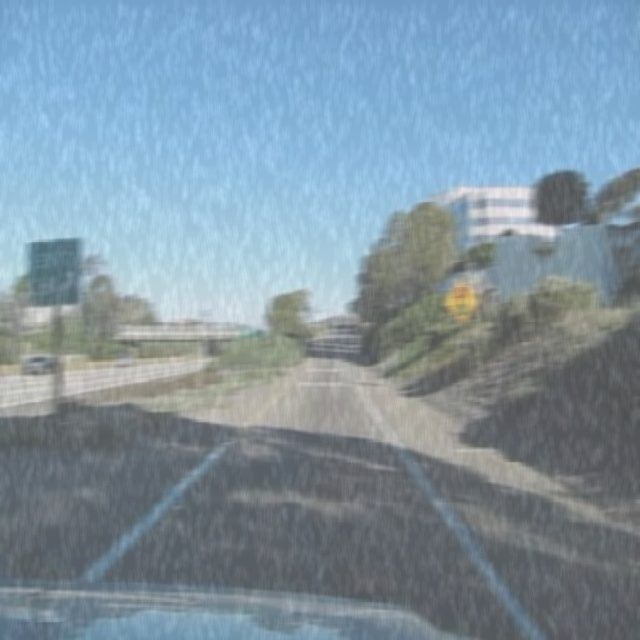signalAhead: (444, 275, 478, 323)
